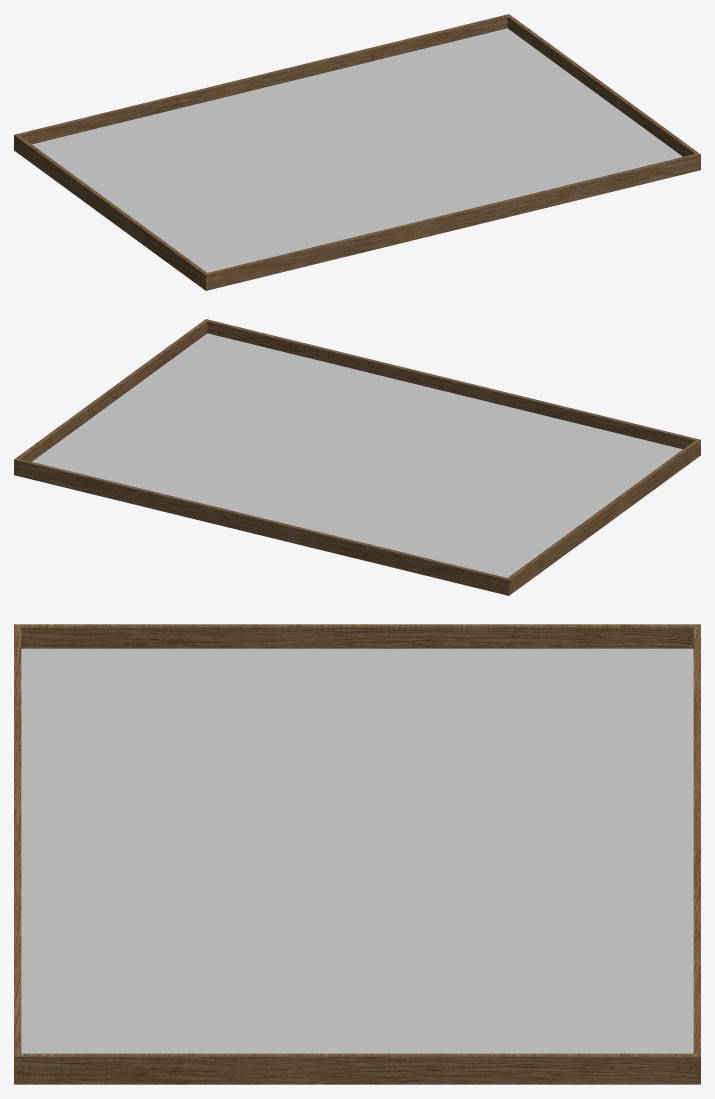
Rendered from table.dae.
The picture shows the model from 3 angles, top to bottom: view 1: azimuth 30°, elevation 25°; view 2: azimuth 150°, elevation 25°; view 3: azimuth 270°, elevation 25°; orthographic projection. The views are drawn at different scales.
Visible parts, largest first — view 1: table_2024; view 2: table_2024; view 3: table_2024.
Boxes of the visible parts, x1=… form: table_2024: x1=14, y1=14, x2=700, y2=290; table_2024: x1=14, y1=319, x2=700, y2=595; table_2024: x1=14, y1=624, x2=700, y2=1084.
Size of the model in its own units: 3.04 by 2.04 by 0.092.
